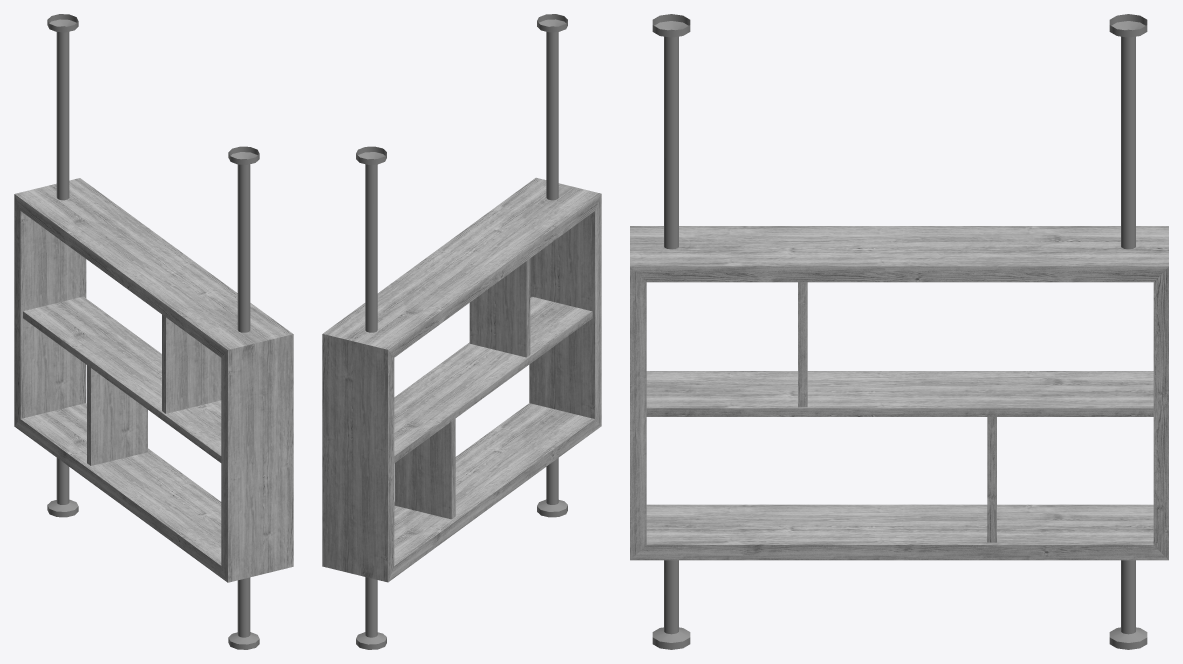
Rendered from Shelf_A.FBX.
3 renders of one model, left to right at view 1: azimuth 30°, elevation 25°; view 2: azimuth 150°, elevation 25°; view 3: azimuth 270°, elevation 25°, orthographic. The views are drawn at different scales.
Visible parts, largest first — view 1: Shelf_A; view 2: Shelf_A; view 3: Shelf_A.
Boxes of the visible parts, <box> form: Shelf_A: <box>14,14,293,649</box>; Shelf_A: <box>322,14,601,649</box>; Shelf_A: <box>630,14,1168,649</box>.
Size of the model in its own units: 0.6387 by 4.56 by 3.6.
2 materials, 1 textured.
